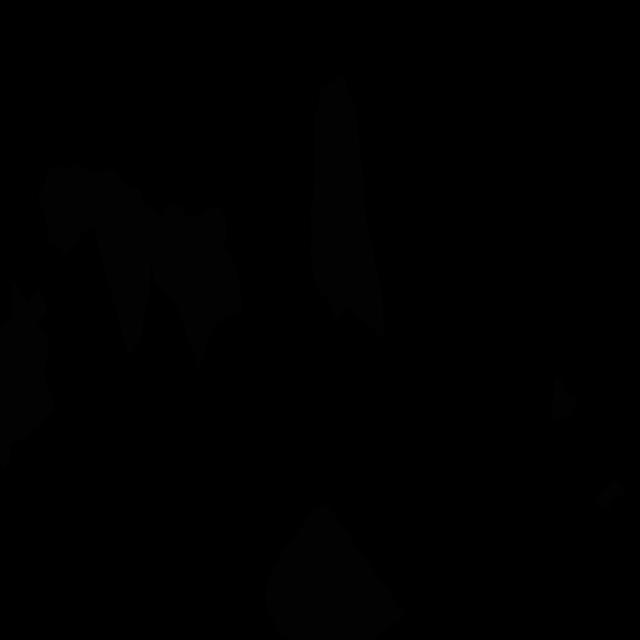cardboard: (39, 164, 163, 357), (310, 74, 384, 341), (265, 504, 405, 640), (149, 204, 242, 369), (0, 280, 54, 469), (551, 376, 579, 420), (595, 479, 626, 511)
